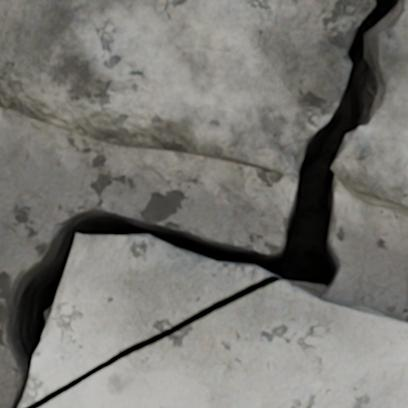brick: (41, 281, 407, 407)
broken_brick: (0, 0, 370, 176), (333, 0, 407, 216)
crack: (2, 0, 405, 407)
